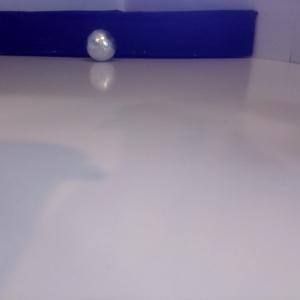zone: (1, 9, 258, 59)
